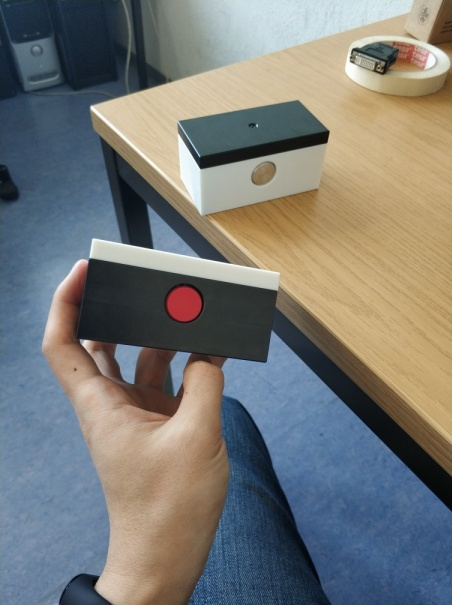black+white+silver: (177, 98, 331, 219)
white+black+red: (72, 235, 283, 365)
